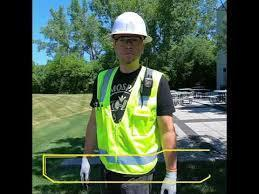helmet: (108, 13, 152, 38)
